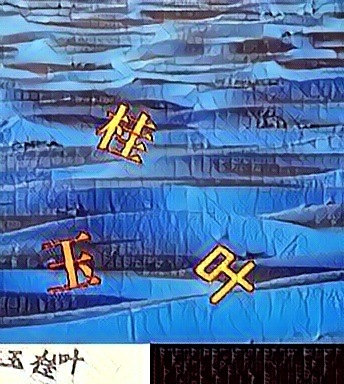B9F0: (94, 102, 154, 166)
D2B6: (195, 244, 255, 308)
D3F1: (41, 231, 101, 295)
